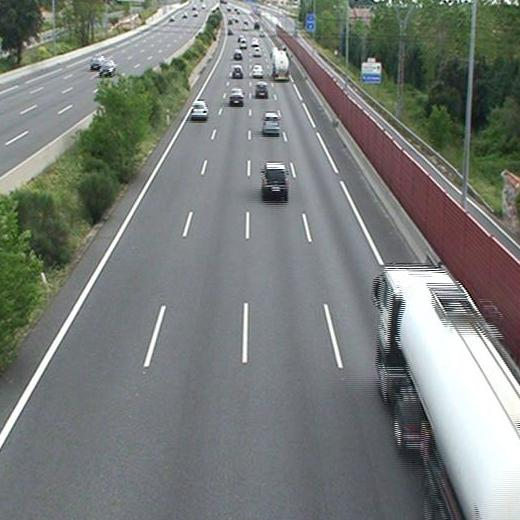car: (263, 164, 288, 195), (263, 113, 279, 136), (192, 101, 207, 119), (229, 88, 243, 102), (255, 82, 269, 95), (231, 66, 244, 77), (251, 64, 263, 75), (231, 50, 243, 58), (252, 48, 262, 56)
tank-truck: (378, 266, 520, 520), (271, 49, 290, 79)
